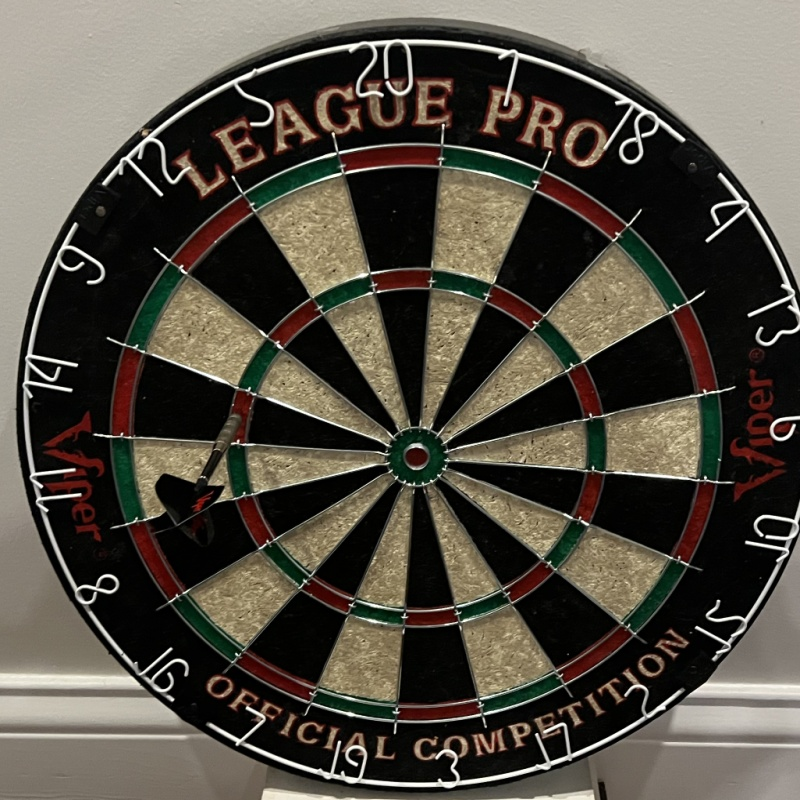dart: (226, 409, 244, 433)
eleven: (29, 466, 82, 511)
six: (768, 414, 800, 441)
three: (435, 748, 460, 790)
twenty: (348, 41, 415, 97)
